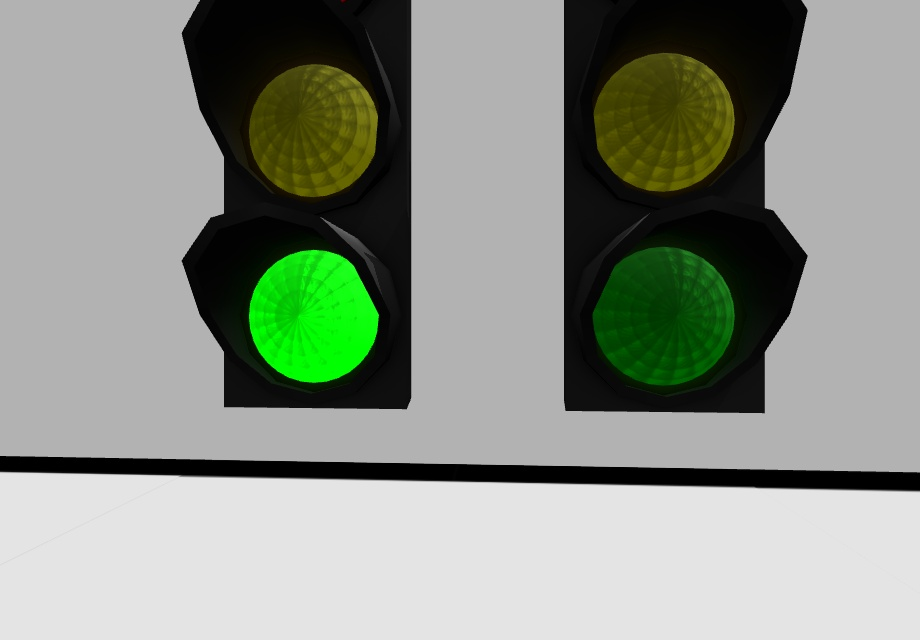green_off: (597, 250, 739, 389)
green_on: (248, 244, 377, 384)
